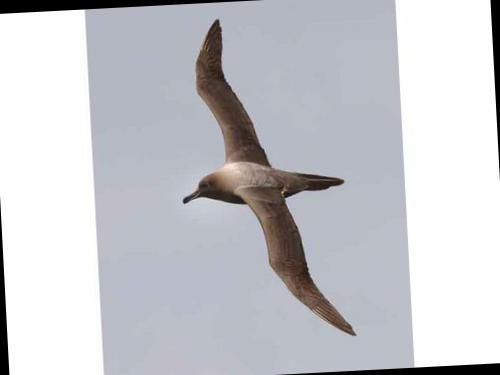bird: (164, 7, 375, 346)
